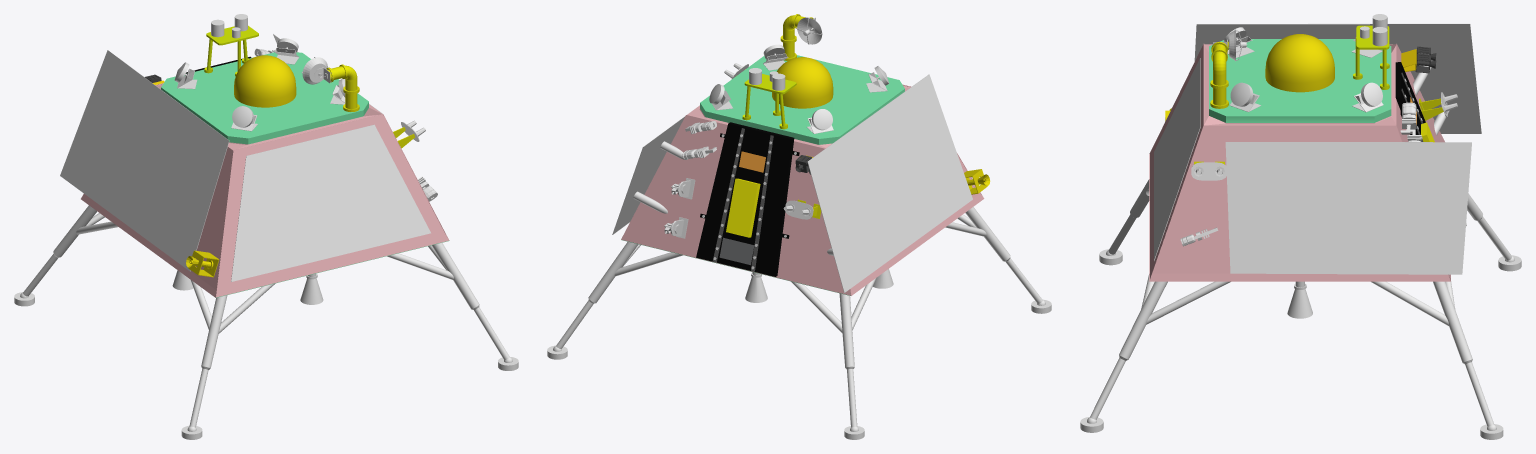
The model's file is Lander_2.fbx.
3 renders of one model, left to right at view 1: azimuth 30°, elevation 25°; view 2: azimuth 150°, elevation 25°; view 3: azimuth 270°, elevation 25°, orthographic. The views are drawn at different scales.
Parts seen in each view (by area): view 1: Body.001; view 2: Body.001; view 3: Body.001.
Part boxes in pixels (x1=…): Body.001: x1=14, y1=14, x2=518, y2=439; Body.001: x1=547, y1=14, x2=1051, y2=439; Body.001: x1=1080, y1=14, x2=1521, y2=439.
Bounding box in the file's own units: 251 × 208 × 254.
